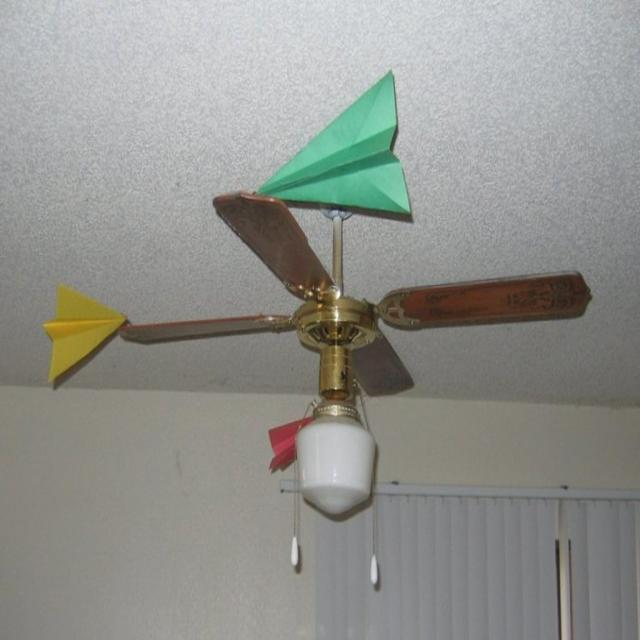fan_off: (113, 195, 590, 393)
